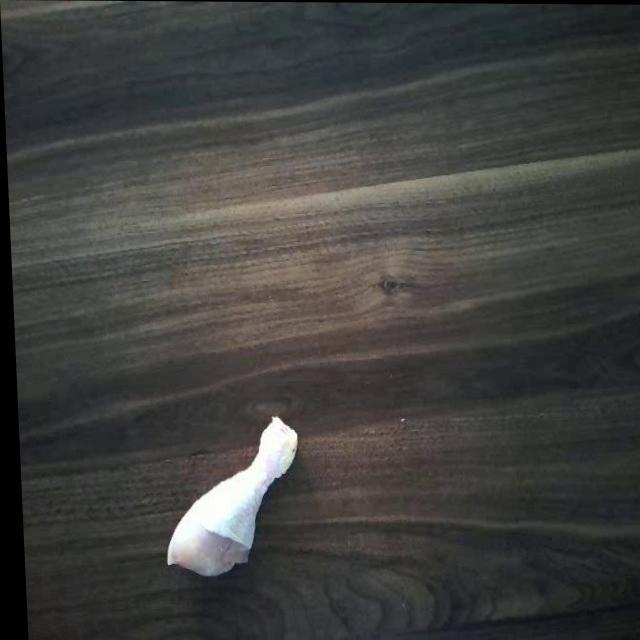leg: (153, 411, 298, 577)
